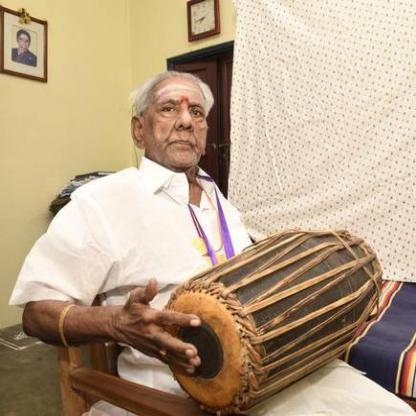Mridangam: (155, 226, 386, 415)
